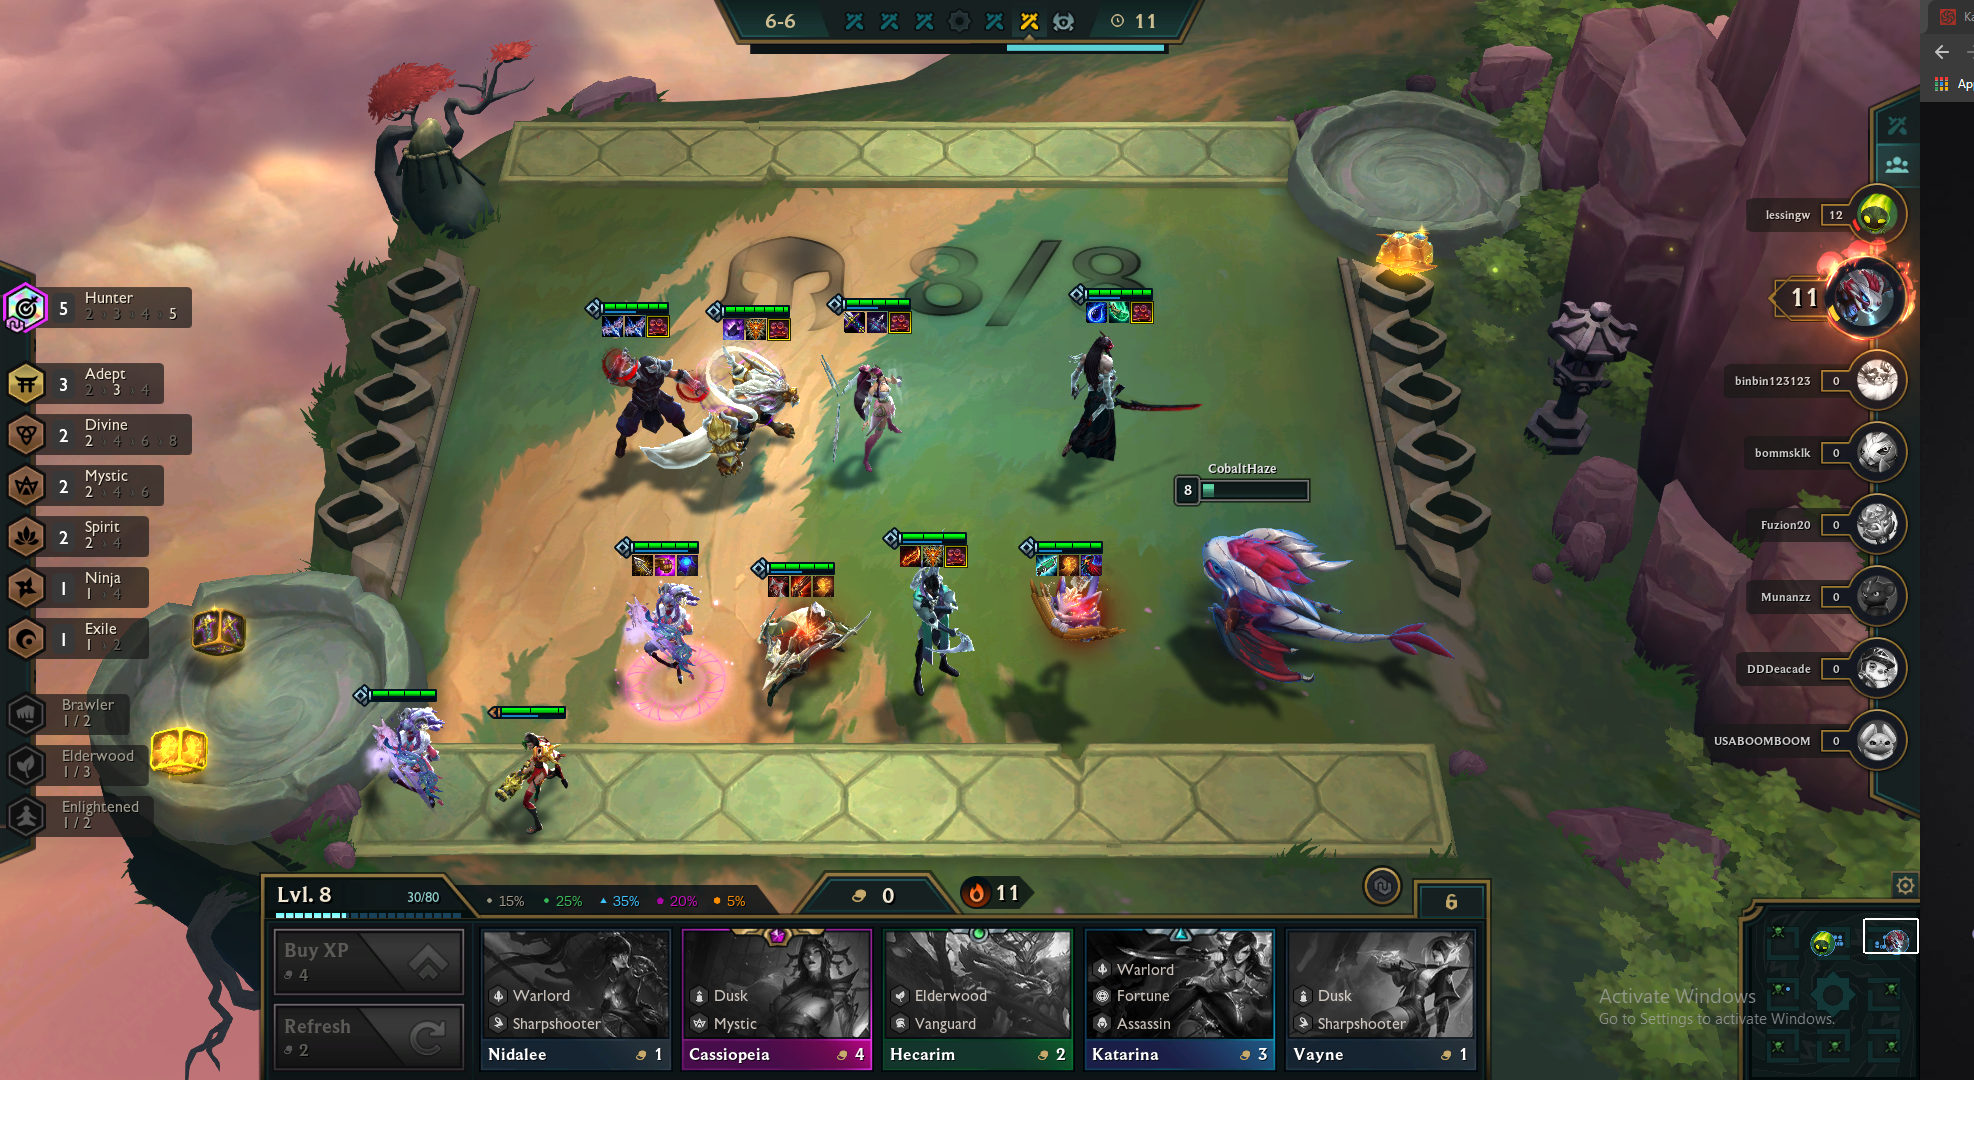1star_jinx: (470, 693, 582, 853)
2star_aphelios: (866, 514, 996, 746)
2star_ashe: (742, 532, 869, 730)
2star_irelia: (809, 275, 935, 503)
2star_kindred: (598, 526, 742, 728), (344, 676, 470, 851)
2star_kindred_chosen: (598, 524, 742, 730)
2star_shen: (576, 285, 698, 494)
2star_warwick: (639, 289, 804, 503)
2star_yone: (1024, 269, 1213, 511)
2star_yuumi: (991, 520, 1132, 745)
item_bf: (839, 304, 870, 336)
item_bluebuff: (674, 548, 704, 578)
item_guinsoo: (898, 540, 927, 571)
item_gunblade: (1033, 549, 1062, 581)
item_hoj: (812, 572, 839, 602), (1060, 549, 1085, 577)
item_ie: (628, 549, 658, 581)
item_jeweledgaunlet: (651, 548, 681, 577)
item_lastwhisper: (864, 307, 891, 335)
item_locket: (742, 309, 771, 340), (919, 540, 948, 568)
item_rfc: (789, 571, 816, 600)
item_shojin: (1108, 294, 1135, 326)
item_shroud: (1076, 548, 1108, 578)
item_spark: (620, 311, 649, 339), (599, 311, 626, 340)
item_tear: (1082, 296, 1112, 326)
item_thief: (1127, 294, 1161, 328), (765, 313, 796, 345), (941, 541, 972, 571), (887, 305, 916, 336), (644, 311, 674, 340)
item_zeke: (763, 567, 794, 600)
item_zzrot: (719, 313, 750, 345)
trait_adept3: (1, 349, 201, 410)
trait_brawler1: (1, 680, 201, 741)
trait_divine2: (1, 402, 201, 463)
trait_elderwood1: (1, 731, 201, 792)
trait_enlightened1: (1, 780, 201, 841)
trait_exile1: (1, 606, 201, 667)
trait_hunter5: (1, 278, 201, 339)
trait_hunter_chosen: (1, 277, 52, 338)
trait_mystic2: (1, 454, 201, 515)
trait_ninja1: (1, 553, 201, 615)
trait_spirit2: (1, 502, 201, 563)
